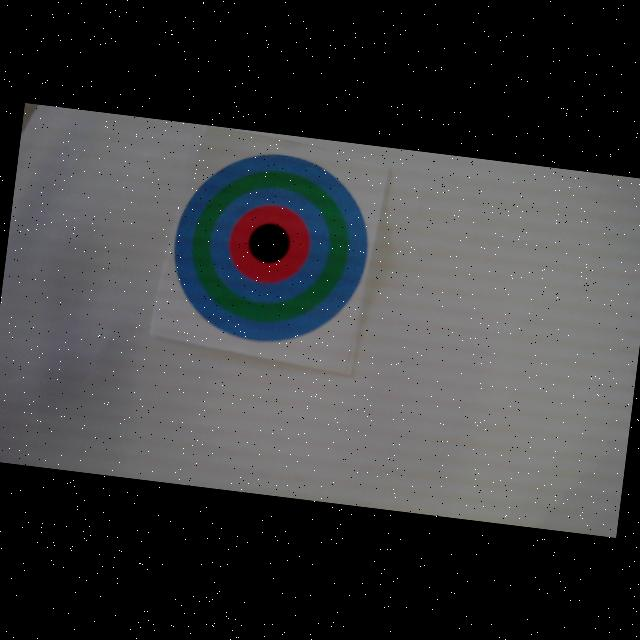COGNITIVE: (164, 142, 377, 354)
